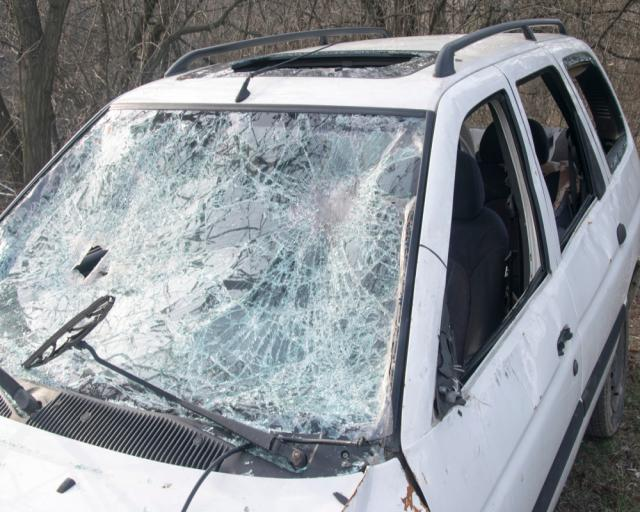glass shatter: (0, 109, 426, 438)
